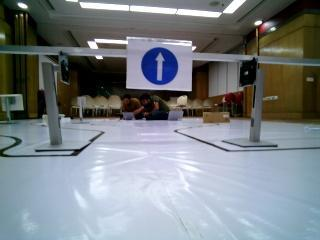straight: (128, 37, 193, 89)
